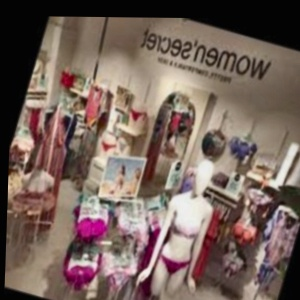women_secret: (193, 19, 300, 23)
